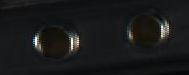joints: (124, 9, 173, 51), (30, 22, 80, 62)
